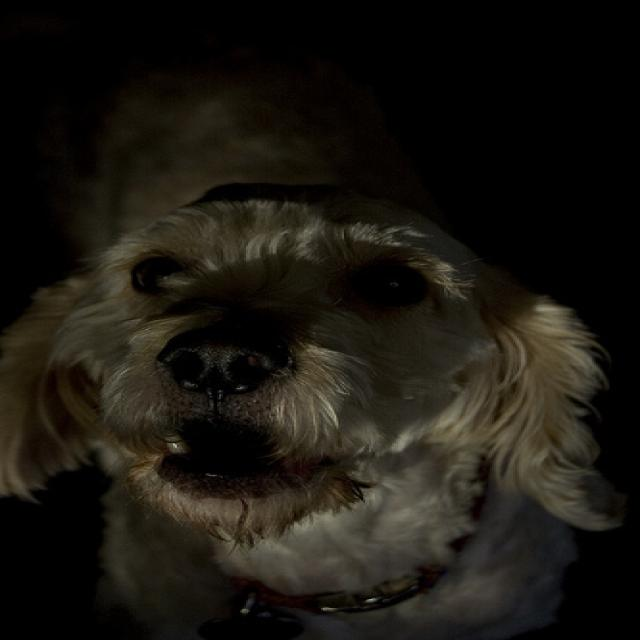Dog: (51, 190, 633, 626)
